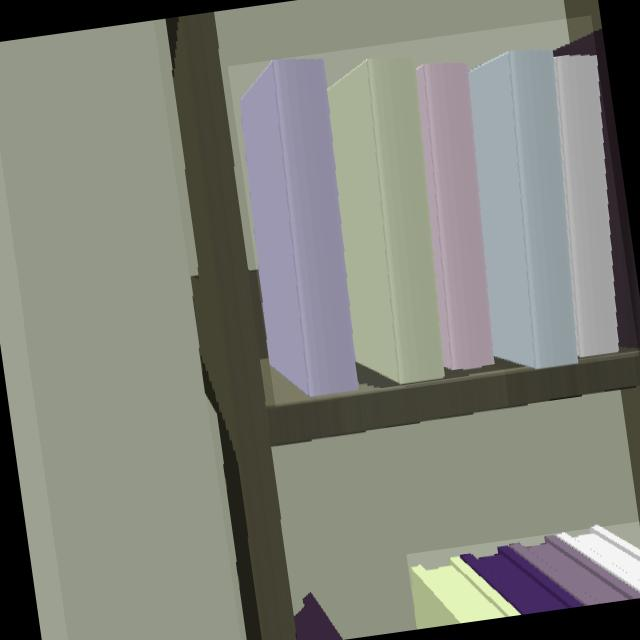book: (240, 50, 619, 399), (410, 528, 640, 630)
shelf: (167, 12, 640, 640)
